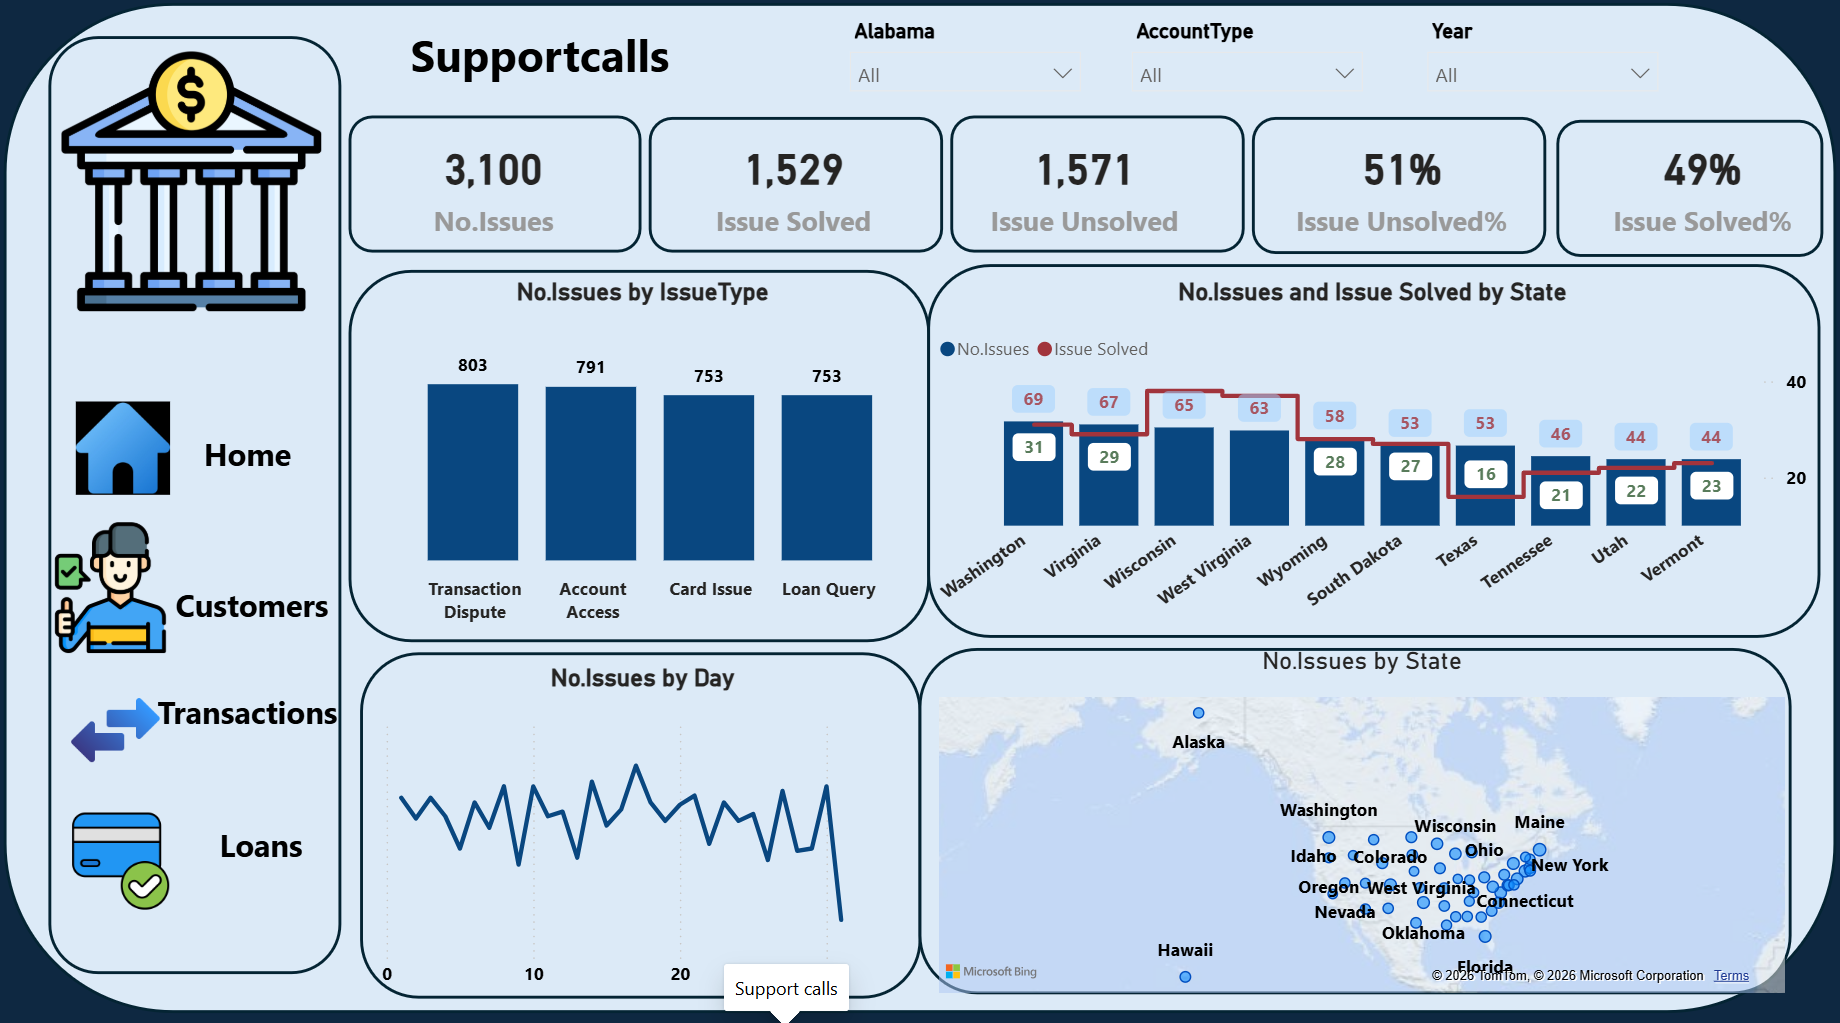

Layout of this report page (visuals, bound fields, positions):
{"tool":"powerbi","page":{"name":"Support calls","canvas":[1280,720],"ordinal":4},"visuals":[{"type":"card","fields":{"Values":["Customers Service.No.Issues"]},"box":[266.1,91.5,155.3,83.4],"z":0},{"type":"card","fields":{"Values":["Customers Service.Issue Solved"]},"box":[474,91.5,155.3,83.4],"z":1000},{"type":"card","fields":{"Values":["Customers Service.Issue No. Solved"]},"box":[675.7,91.5,155.3,83.4],"z":2000},{"type":"card","fields":{"Values":["Customers Service.Issue Unsolved%"]},"box":[878.4,91.5,189.2,83.2],"z":3000},{"type":"card","fields":{"Values":["Customers Service.Issue Solved%"]},"box":[1103.9,91.5,155.3,83.4],"z":4000},{"type":"lineClusteredColumnComboChart","fields":{"Y":["Customers Service.No.Issues"],"Category":["SupportCalls.IssueType"]},"box":[248.4,197.5,398.1,247.4],"z":5000},{"type":"lineClusteredColumnComboChart","fields":{"Y":["Customers Service.No.Issues"],"Category":["customers.State"],"Y2":["Customers Service.Issue Solved"]},"box":[647.6,197.5,611.2,245.3],"z":6000},{"type":"lineChart","fields":{"Category":["Calender.Date.Variation.Date Hierarchy.Day"],"Y":["Customers Service.No.Issues"]},"box":[254.7,464.6,385.6,233.9],"z":7000},{"type":"map","fields":{"Category":["customers.State"],"Size":["Customers Service.No.Issues"]},"box":[647.6,453.2,596.7,245.3],"z":8000},{"type":"slicer","fields":{"Values":["Calender.Year"]},"box":[980.8,13.7,180,59.2],"z":8001},{"type":"slicer","fields":{"Values":["Accounts.AccountType"]},"box":[776.9,13.7,180,59.2],"z":8002},{"type":"slicer","fields":{"Values":["customers.State"]},"box":[581,13.7,180,59.2],"z":8003},{"type":"shape","box":[254.7,13.5,243.2,59.3],"z":8004},{"type":"image","box":[44.4,41,180,181.1],"z":8005},{"type":"image","box":[42.9,283.9,89.2,64.9],"z":8006},{"type":"image","box":[33.6,362.7,90.4,99.7],"z":8007},{"type":"image","box":[37.4,479.2,89.2,64.9],"z":8008},{"type":"image","box":[44.7,568.6,82.3,67.2],"z":8009},{"type":"shape","box":[117.5,568.6,130.9,42.9],"z":8010},{"type":"shape","box":[111.2,402.1,130.9,42.9],"z":8011},{"type":"shape","box":[107.8,476.2,130.9,44],"z":8012},{"type":"shape","box":[107.8,297.8,130.9,44],"z":8013}]}

Visuals, with their boxes in screenshot pixels (x1, y1, x2, y2), scaled from the page's 1280x720 canvas onto the 1840x1023 screenshot:
card - Customers Service.No.Issues: Rect(383, 130, 606, 249)
card - Customers Service.Issue Solved: Rect(681, 130, 905, 249)
card - Customers Service.Issue No. Solved: Rect(971, 130, 1195, 249)
card - Customers Service.Issue Unsolved%: Rect(1263, 130, 1535, 248)
card - Customers Service.Issue Solved%: Rect(1587, 130, 1810, 249)
lineClusteredColumnComboChart - Customers Service.No.Issues x SupportCalls.IssueType: Rect(357, 281, 929, 632)
lineClusteredColumnComboChart - Customers Service.No.Issues x customers.State: Rect(931, 281, 1810, 629)
lineChart - Calender.Date.Variation.Date Hierarchy.Day x Customers Service.No.Issues: Rect(366, 660, 920, 992)
map - customers.State x Customers Service.No.Issues: Rect(931, 644, 1789, 992)
slicer - Calender.Year: Rect(1410, 19, 1669, 104)
slicer - Accounts.AccountType: Rect(1117, 19, 1376, 104)
slicer - customers.State: Rect(835, 19, 1094, 104)
shape: Rect(366, 19, 716, 103)
image: Rect(64, 58, 323, 316)
image: Rect(62, 403, 190, 496)
image: Rect(48, 515, 178, 657)
image: Rect(54, 681, 182, 773)
image: Rect(64, 808, 183, 903)
shape: Rect(169, 808, 357, 869)
shape: Rect(160, 571, 348, 632)
shape: Rect(155, 677, 343, 739)
shape: Rect(155, 423, 343, 486)
